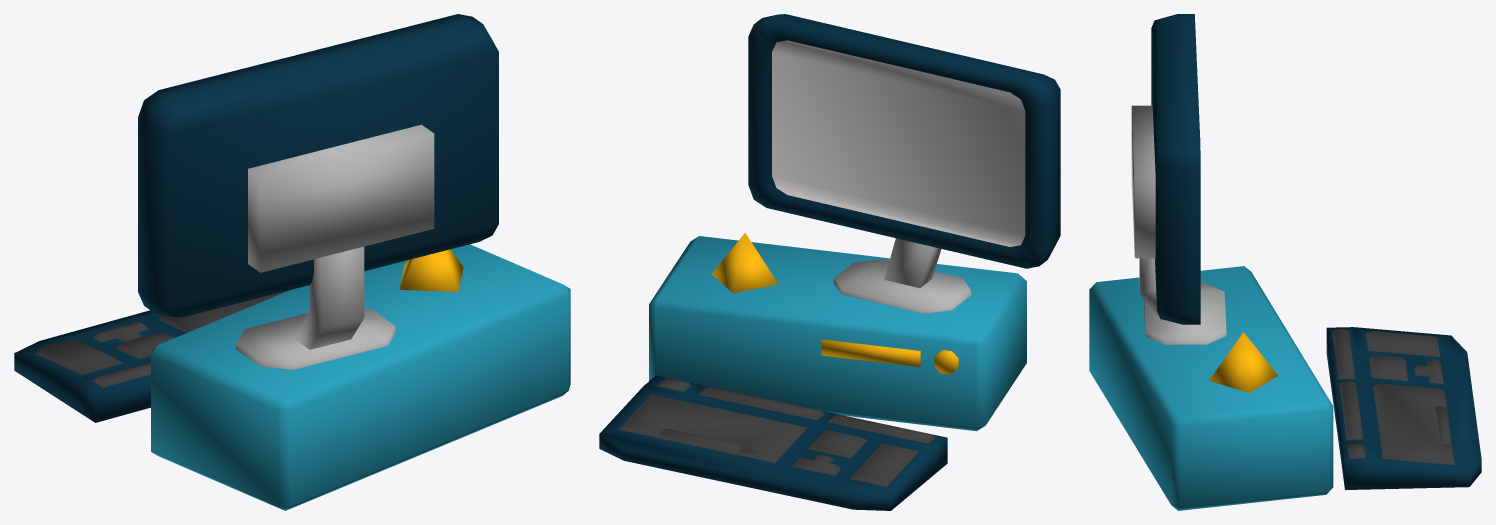
3 renders of one model, left to right at view 1: azimuth 30°, elevation 25°; view 2: azimuth 150°, elevation 25°; view 3: azimuth 270°, elevation 25°, orthographic. The views are drawn at different scales.
Visible parts, largest first — view 1: PC; view 2: PC; view 3: PC.
Part boxes in pixels (<box>): PC: <box>14,14,570,510</box>; PC: <box>599,14,1060,510</box>; PC: <box>1089,14,1481,510</box>.
Bounding box in the file's own units: 0.8211 × 0.7303 × 0.7785.
